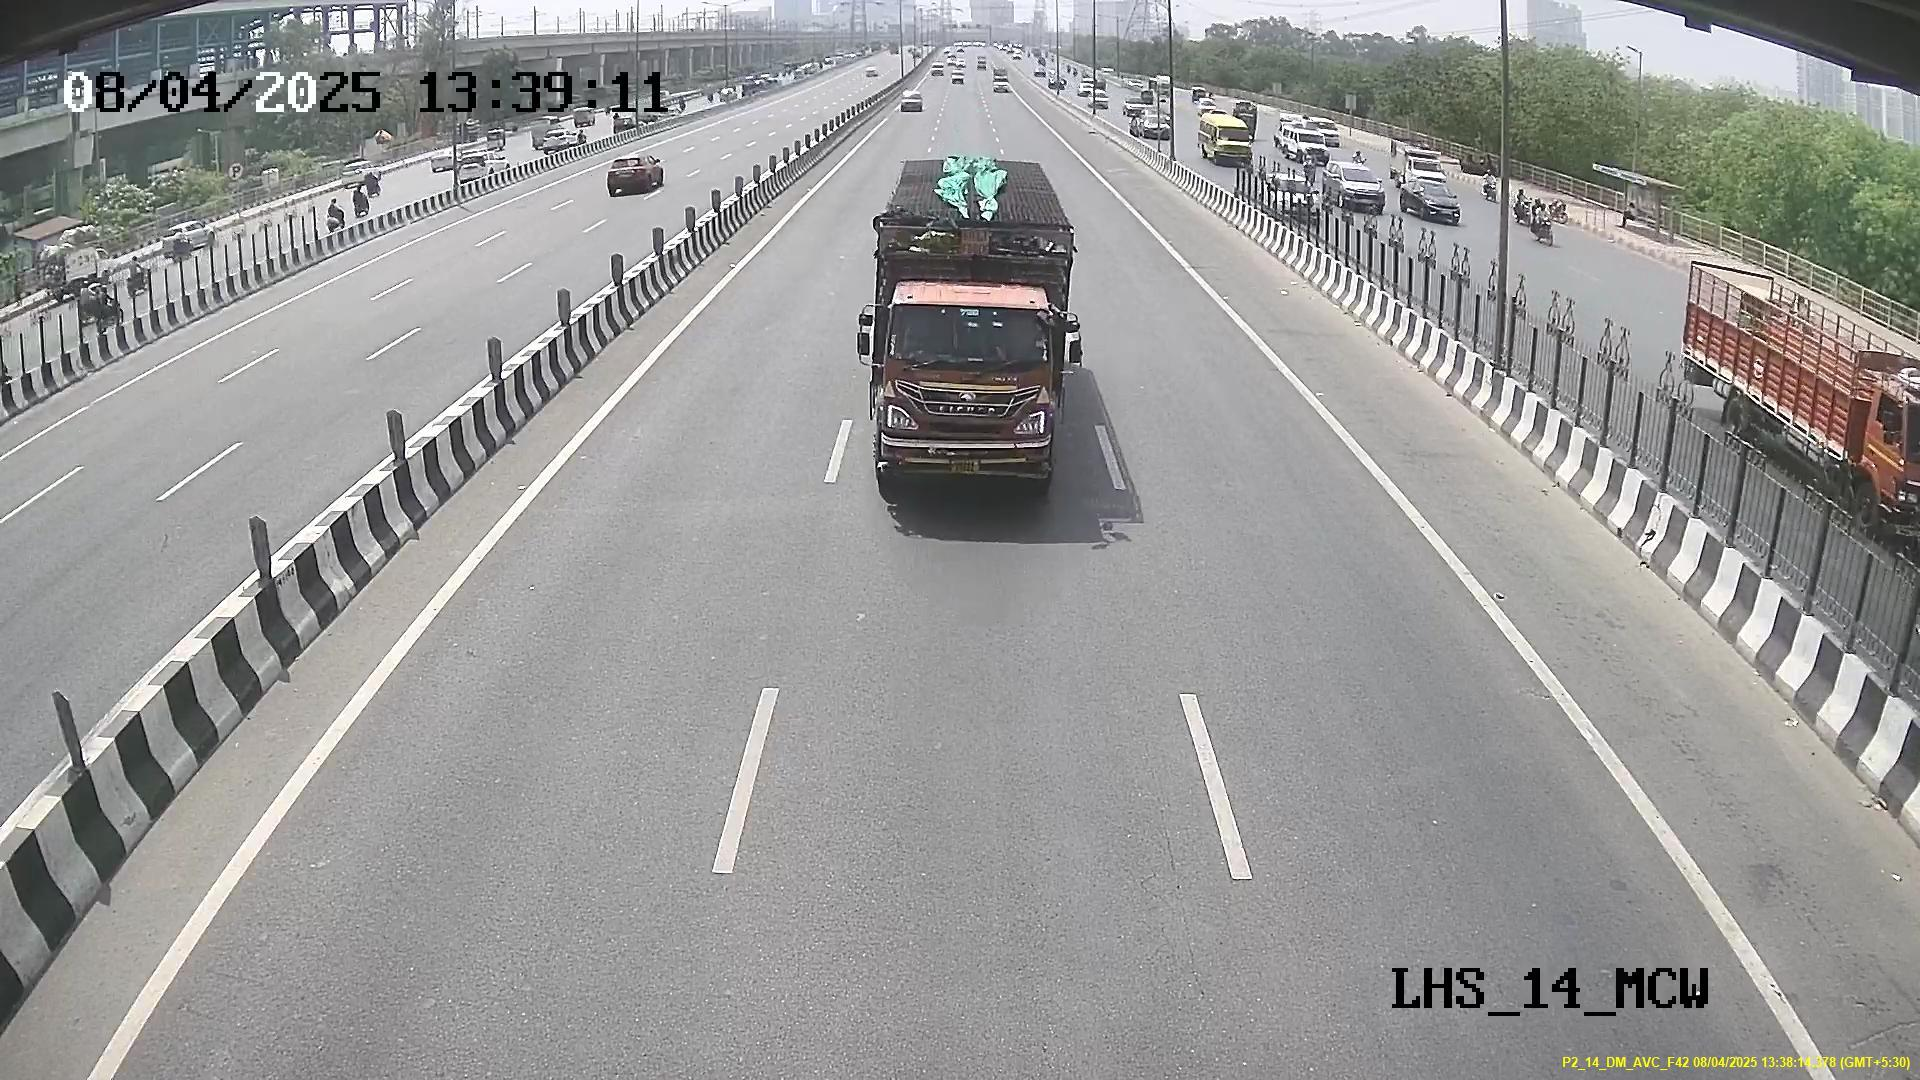lcv: (870, 286, 1060, 487)
